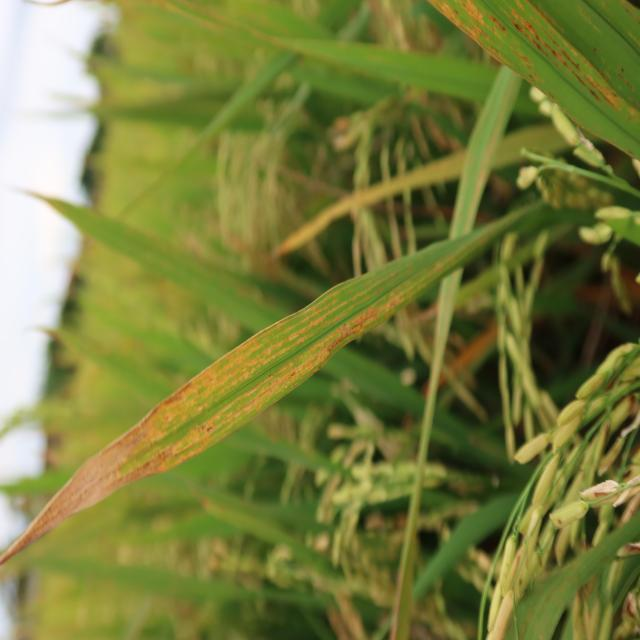Dom soc vi khuan: (7, 271, 433, 556), (430, 0, 506, 66), (586, 74, 617, 110), (456, 0, 485, 28), (511, 7, 538, 37), (507, 43, 534, 66), (487, 24, 503, 43)
